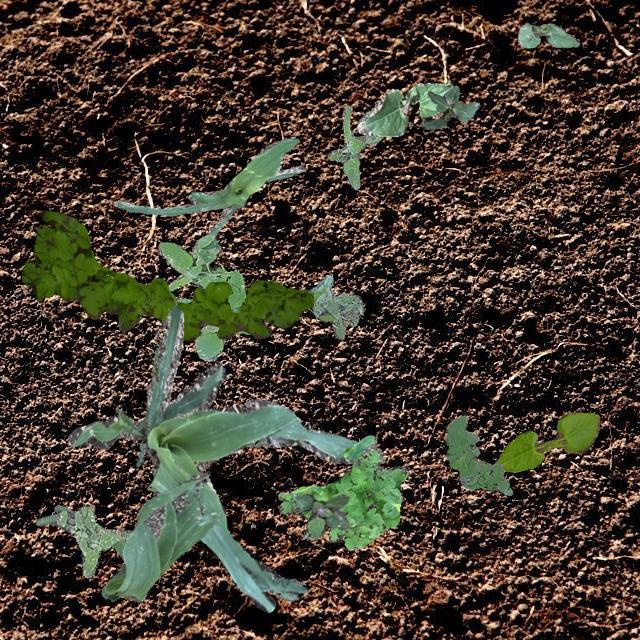crop: (68, 303, 382, 612), (114, 136, 304, 236), (100, 471, 220, 602), (496, 412, 598, 471), (356, 81, 452, 136), (35, 504, 131, 558), (419, 84, 478, 128), (516, 22, 578, 46)
weed: (20, 210, 312, 340), (278, 434, 407, 550), (157, 234, 247, 360), (444, 414, 512, 494), (56, 504, 122, 576), (326, 104, 381, 188), (306, 274, 362, 338), (292, 492, 348, 538)
